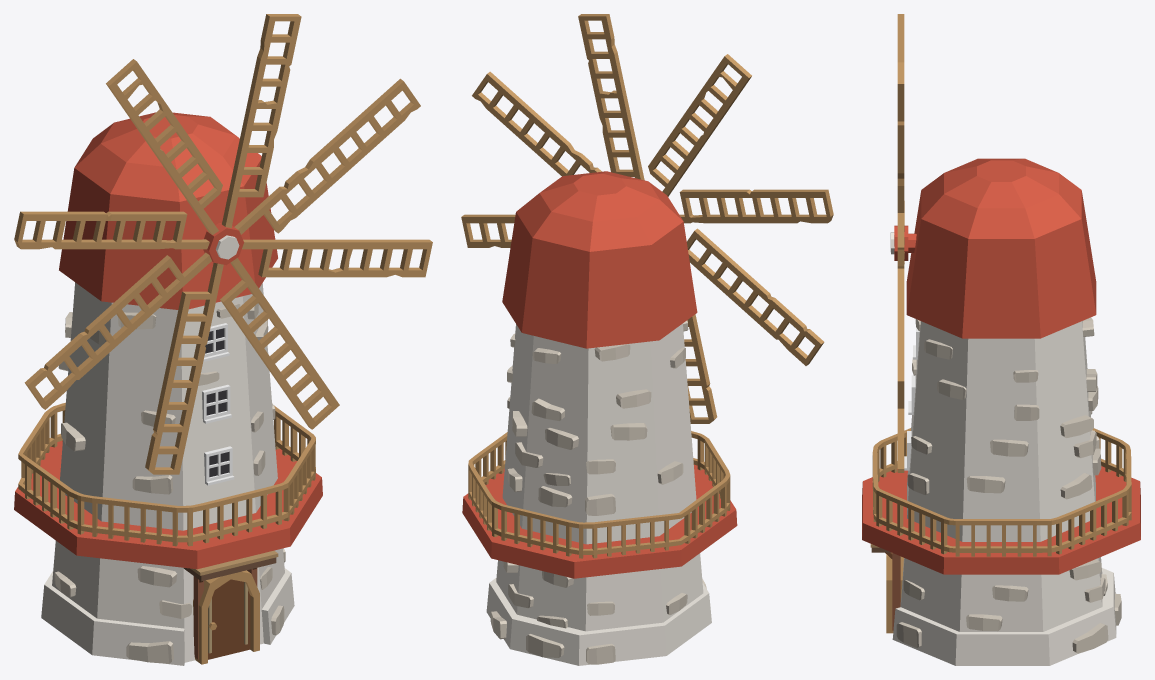
The model's file is windmill.glb.
3 renders of one model, left to right at view 1: azimuth 30°, elevation 25°; view 2: azimuth 150°, elevation 25°; view 3: azimuth 270°, elevation 25°, orthographic. The views are drawn at different scales.
Visible parts, largest first — view 1: TowerWindmill_Cylinder.008, TowerWindmill_Blades_Cylinder.006, Mill_entry_and_trolley_hood; view 2: TowerWindmill_Cylinder.008, TowerWindmill_Blades_Cylinder.006; view 3: TowerWindmill_Cylinder.008, TowerWindmill_Blades_Cylinder.006, Mill_entry_and_trolley_hood.
Part boxes in pixels (box(x1,y1,x2,y2)): TowerWindmill_Cylinder.008: box(14, 112, 322, 665); TowerWindmill_Blades_Cylinder.006: box(14, 14, 432, 474); Mill_entry_and_trolley_hood: box(183, 550, 278, 659); TowerWindmill_Cylinder.008: box(462, 171, 737, 665); TowerWindmill_Blades_Cylinder.006: box(461, 14, 833, 423); TowerWindmill_Cylinder.008: box(862, 158, 1140, 665); TowerWindmill_Blades_Cylinder.006: box(897, 14, 904, 472); Mill_entry_and_trolley_hood: box(870, 544, 900, 630).
Bounding box in the file's own units: 7.92 × 11.41 × 4.99.
